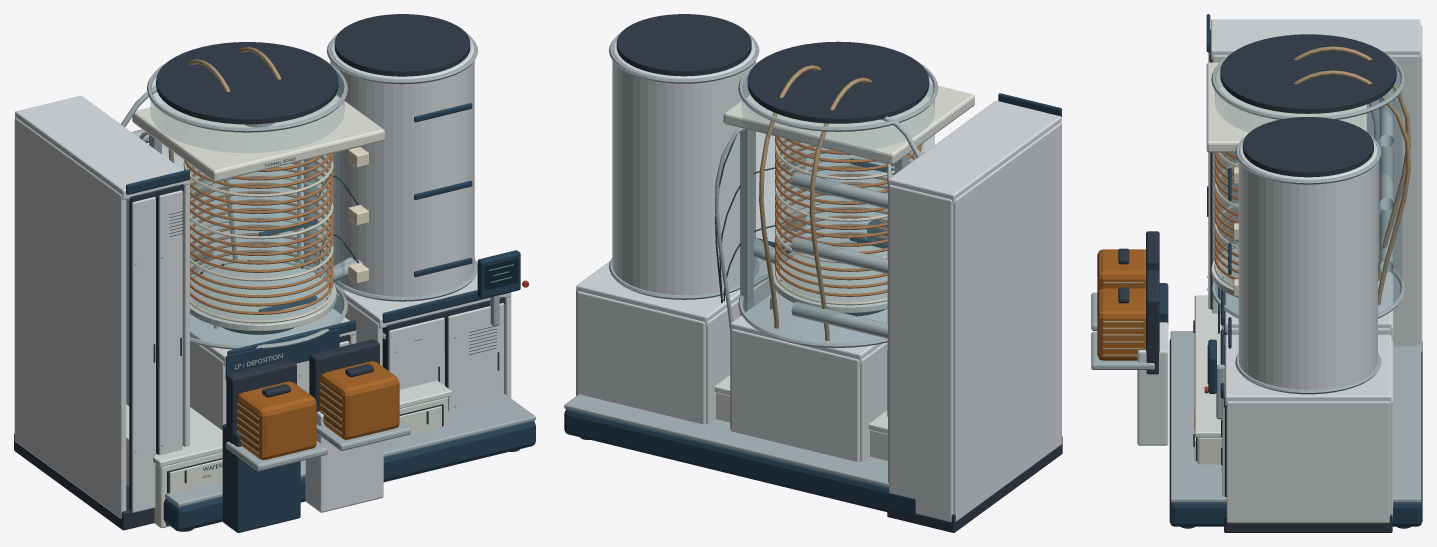
Rendered from equipment-lpcvd.glb.
3 views of the same model, side by side, from view 1: azimuth 30°, elevation 25°; view 2: azimuth 150°, elevation 25°; view 3: azimuth 270°, elevation 25° (orthographic). The views are drawn at different scales.
Parts seen in each view (by area): view 1: Side service skin.004, Vertical low pressure tube shield, Vertical low pressure tube shield.001, Quartz process tube, Vertical low pressure tube shield top cap, Source upper bridge, Filtered ceiling.002, Removable service door.004, Vertical low pressure tube shield top cap.001, Removable service door.005, Quartz flange, Segmented service plinth (+51 smaller); view 2: Side service skin.004, Vertical low pressure tube shield, Vertical low pressure tube shield.001, Rear utility enclosure.002, Rear utility enclosure.001, Rear utility enclosure, Vertical low pressure tube shield top cap, Segmented service plinth, Filtered ceiling.002, Quartz process tube, Source upper bridge, Vertical low pressure tube shield top cap.001 (+27 smaller); view 3: Vertical low pressure tube shield.001, Side service skin.003, Vertical low pressure tube shield top cap, Raised deck edge, Vertical low pressure tube shield, Side service skin.005, Vertical low pressure tube shield top cap.001, Filtered ceiling.002, Filtered ceiling.001, Source upper bridge, Independent load port base.001, Amber wafer transport pod.001 (+26 smaller).
Boxes of the visible parts, x1,y1,x2,y2 form: Side service skin.004: (14, 117, 126, 518); Vertical low pressure tube shield: (150, 71, 344, 344); Vertical low pressure tube shield.001: (330, 38, 474, 296); Quartz process tube: (187, 155, 329, 319); Vertical low pressure tube shield top cap: (156, 42, 338, 124); Source upper bridge: (132, 95, 384, 181); Filtered ceiling.002: (15, 95, 189, 199); Removable service door.004: (132, 197, 155, 512); Vertical low pressure tube shield top cap.001: (334, 14, 470, 76); Removable service door.005: (159, 190, 182, 455); Quartz flange: (190, 263, 336, 331); Segmented service plinth: (163, 420, 535, 531); Side service skin.004: (953, 122, 1061, 521); Vertical low pressure tube shield: (742, 69, 934, 342); Vertical low pressure tube shield.001: (612, 38, 755, 295); Rear utility enclosure.002: (889, 185, 953, 522); Rear utility enclosure.001: (577, 291, 705, 424); Rear utility enclosure: (731, 329, 859, 461); Vertical low pressure tube shield top cap: (747, 41, 929, 123); Segmented service plinth: (564, 409, 917, 517); Filtered ceiling.002: (888, 100, 1061, 204); Quartz process tube: (778, 137, 920, 301); Source upper bridge: (723, 84, 974, 164); Vertical low pressure tube shield top cap.001: (616, 14, 751, 76); Vertical low pressure tube shield.001: (1238, 140, 1377, 389); Side service skin.003: (1226, 401, 1389, 523); Vertical low pressure tube shield top cap: (1220, 34, 1396, 113); Raised deck edge: (1170, 331, 1421, 502); Vertical low pressure tube shield: (1215, 61, 1401, 313); Side service skin.005: (1212, 55, 1418, 346); Vertical low pressure tube shield top cap.001: (1242, 117, 1373, 177); Filtered ceiling.002: (1211, 19, 1420, 59); Filtered ceiling.001: (1225, 334, 1391, 405); Source upper bridge: (1206, 62, 1366, 152); Independent load port base.001: (1137, 322, 1168, 445); Amber wafer transport pod.001: (1097, 288, 1145, 360).
Bounding box in the file's own units: 7.3 × 6.67 × 5.37.
